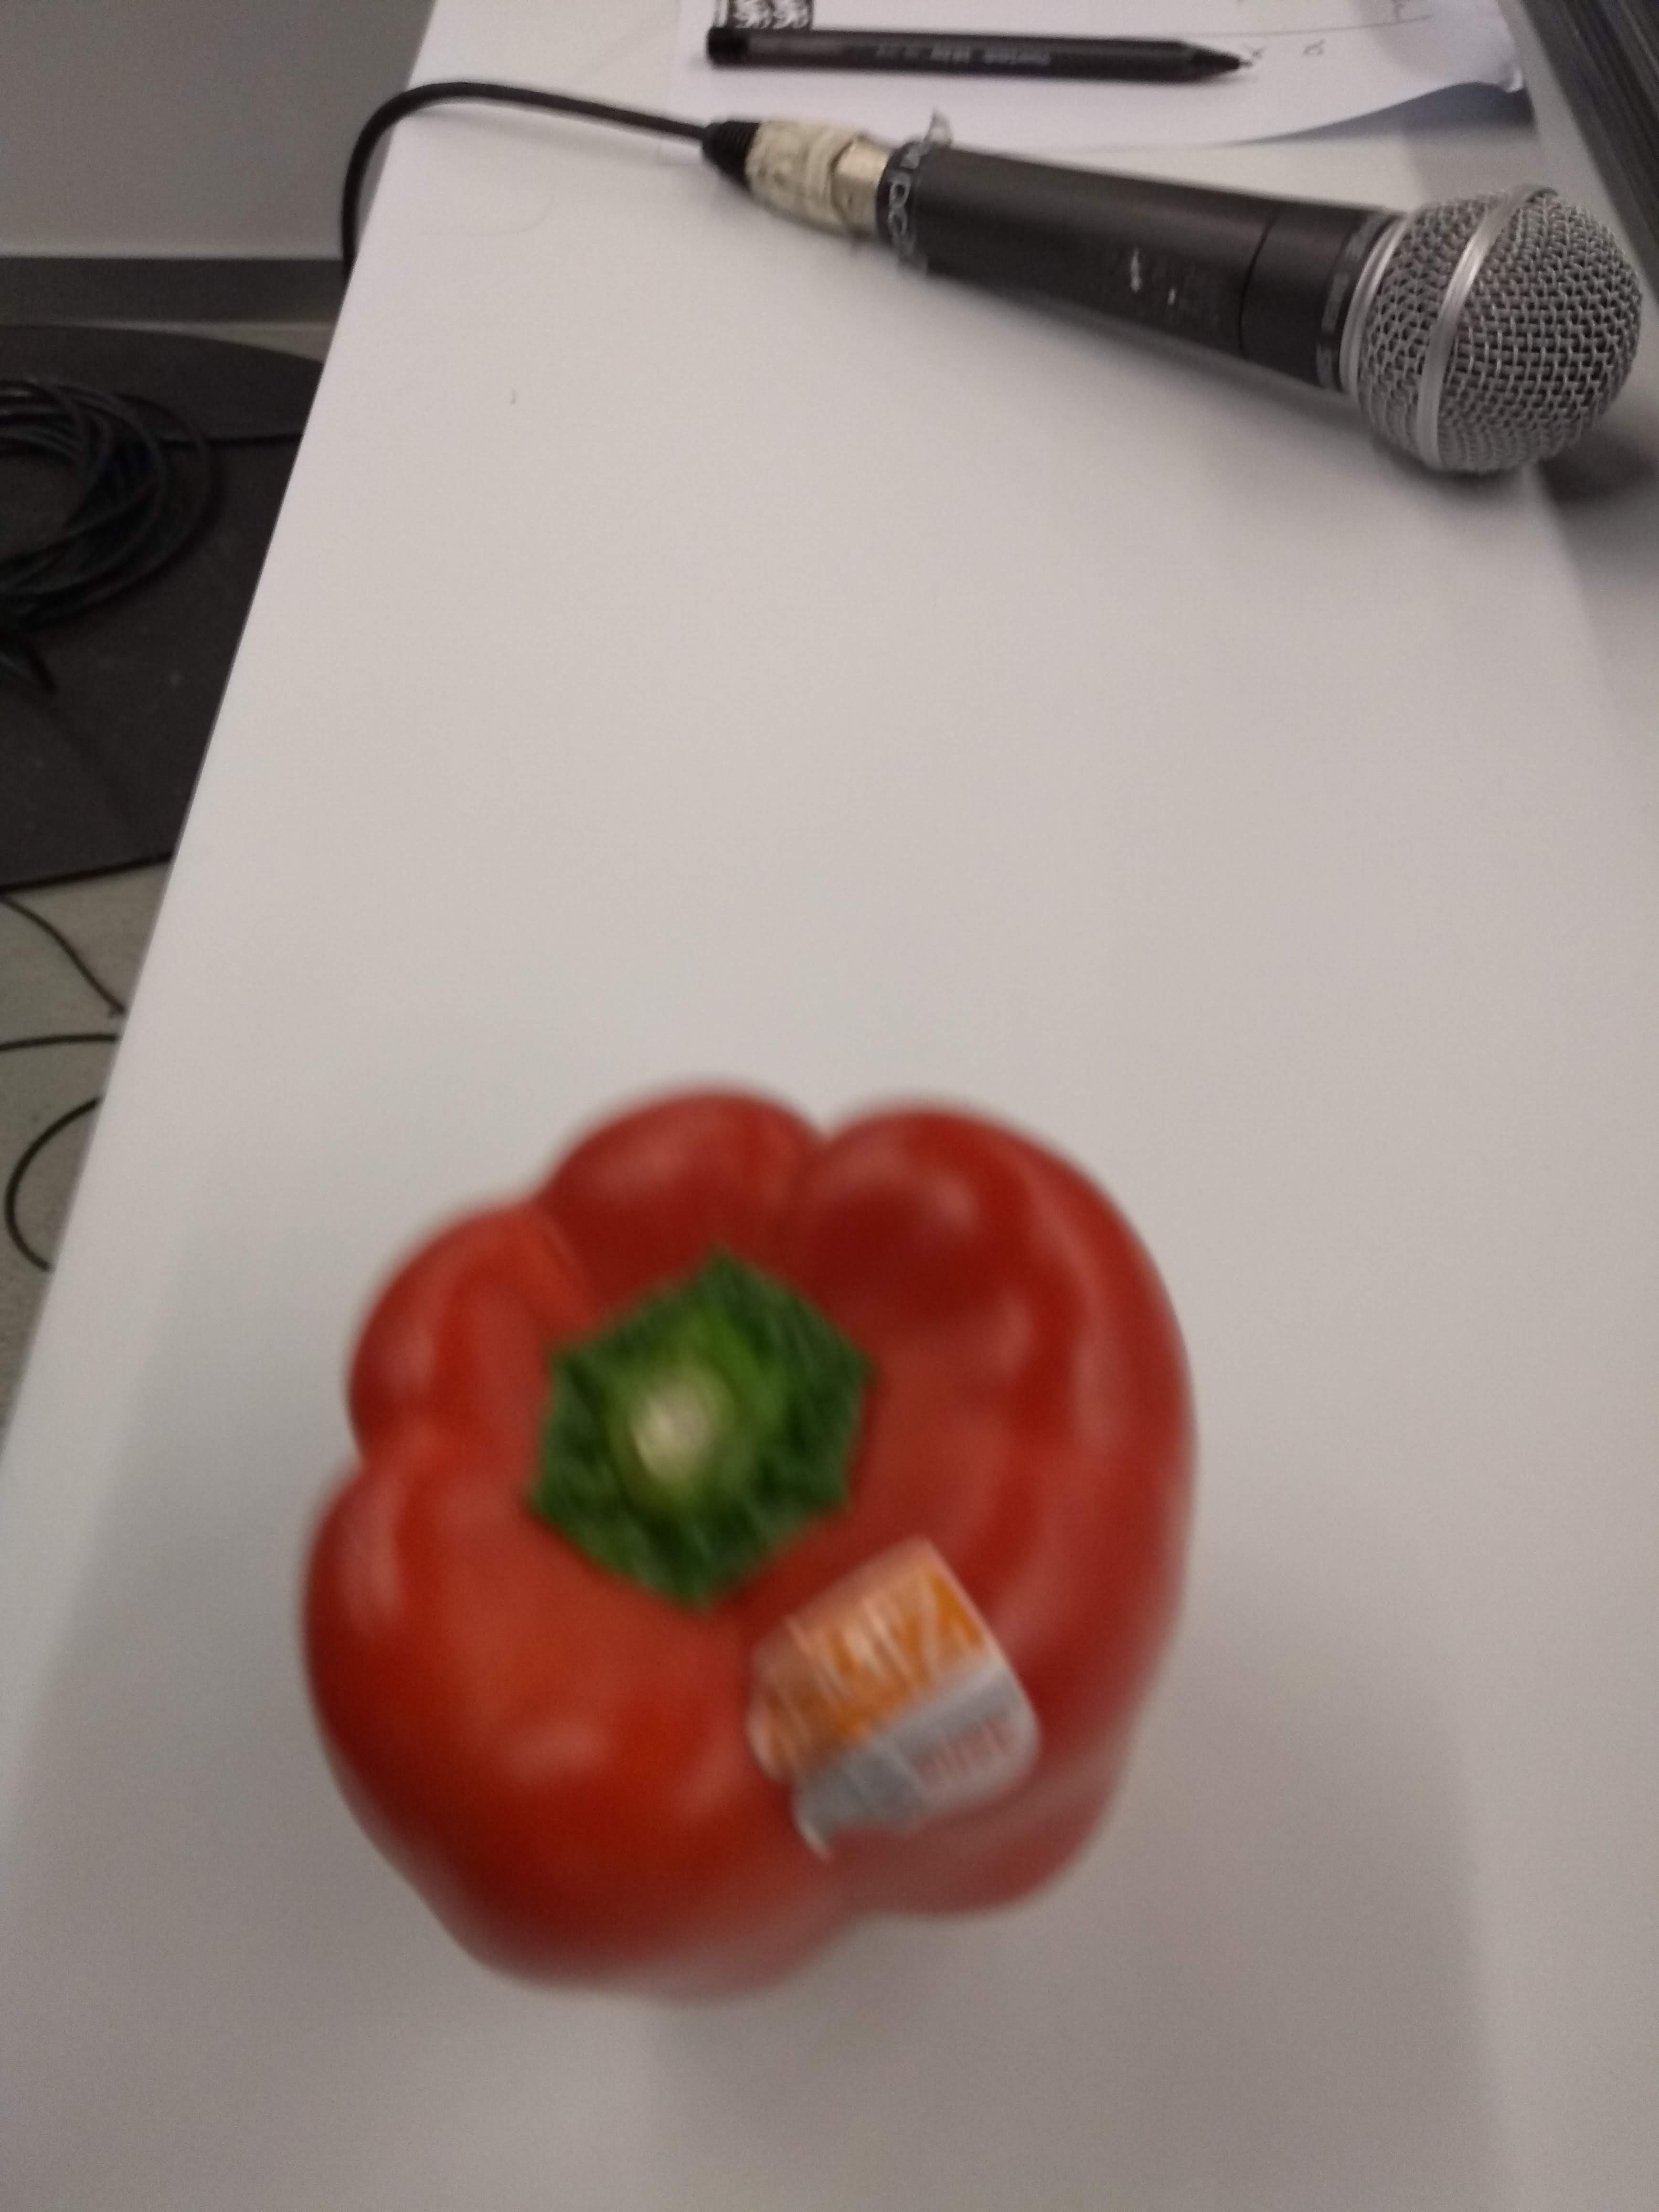paprika: (275, 1062, 1227, 2041)
